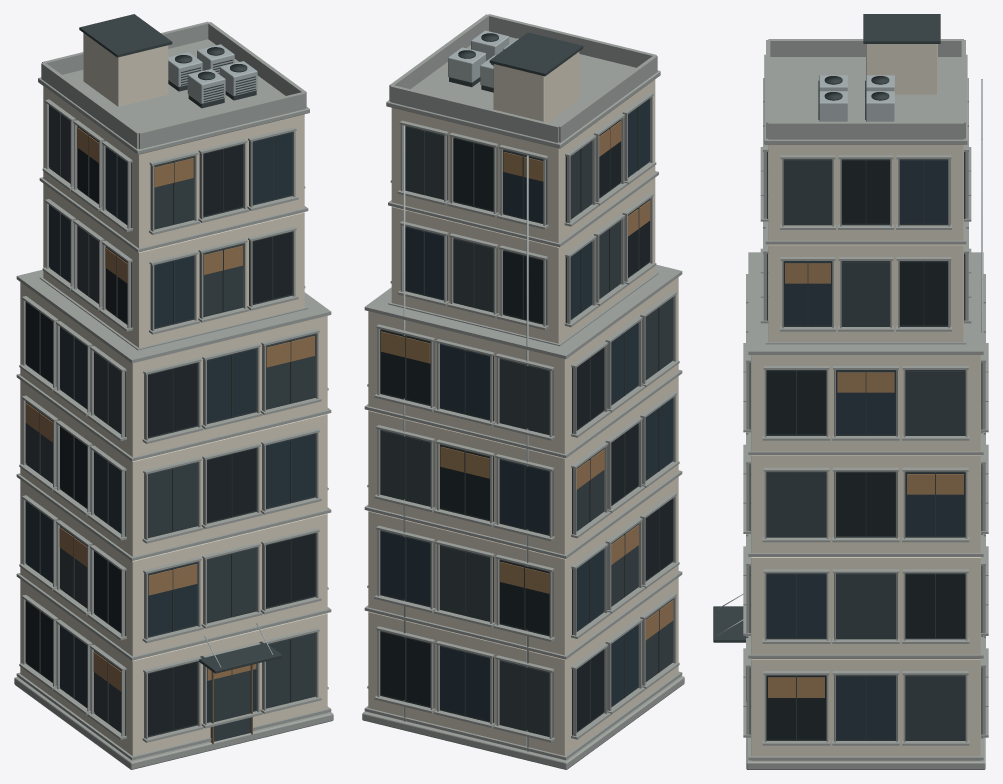
The model's file is site-distant-block.glb.
The picture shows the model from 3 angles, left to right: view 1: azimuth 30°, elevation 25°; view 2: azimuth 150°, elevation 25°; view 3: azimuth 270°, elevation 25°; orthographic projection. The views are drawn at different scales.
Visible parts, largest first — view 1: site-distant-block_Honed_grey_sandstone, site-distant-block_Limestone_render, site-distant-block_Interior_shadow_glazing, site-distant-block_Smoked_architectural_glass, site-distant-block_Blue_reflective_glazing, site-distant-block_Anthracite_anodized_metal, site-distant-block_Weathered_warm_teak, site-distant-block_Galvanized_brushed_steel; view 2: site-distant-block_Honed_grey_sandstone, site-distant-block_Limestone_render, site-distant-block_Blue_reflective_glazing, site-distant-block_Smoked_architectural_glass, site-distant-block_Interior_shadow_glazing, site-distant-block_Anthracite_anodized_metal, site-distant-block_Weathered_warm_teak, site-distant-block_Galvanized_brushed_steel; view 3: site-distant-block_Honed_grey_sandstone, site-distant-block_Limestone_render, site-distant-block_Smoked_architectural_glass, site-distant-block_Interior_shadow_glazing, site-distant-block_Blue_reflective_glazing, site-distant-block_Anthracite_anodized_metal, site-distant-block_Weathered_warm_teak, site-distant-block_Galvanized_brushed_steel.
Boxes of the visible parts, x1,y1,x2,y2 form: site-distant-block_Honed_grey_sandstone: (14,21,333,769); site-distant-block_Limestone_render: (20,33,327,757); site-distant-block_Interior_shadow_glazing: (25,126,315,735); site-distant-block_Smoked_architectural_glass: (25,105,315,741); site-distant-block_Blue_reflective_glazing: (25,132,315,721); site-distant-block_Anthracite_anodized_metal: (26,14,315,737); site-distant-block_Weathered_warm_teak: (25,127,314,691); site-distant-block_Galvanized_brushed_steel: (168,44,273,667); site-distant-block_Honed_grey_sandstone: (362,14,684,769); site-distant-block_Limestone_render: (368,52,678,757); site-distant-block_Blue_reflective_glazing: (380,98,673,720); site-distant-block_Smoked_architectural_glass: (380,126,673,735); site-distant-block_Interior_shadow_glazing: (380,120,673,731); site-distant-block_Anthracite_anodized_metal: (380,32,672,737); site-distant-block_Weathered_warm_teak: (381,121,673,640); site-distant-block_Galvanized_brushed_steel: (403,30,528,751); site-distant-block_Honed_grey_sandstone: (743,39,988,769); site-distant-block_Limestone_render: (751,44,980,760); site-distant-block_Smoked_architectural_glass: (766,160,965,739); site-distant-block_Interior_shadow_glazing: (766,160,965,739); site-distant-block_Blue_reflective_glazing: (766,160,965,739); site-distant-block_Anthracite_anodized_metal: (713,14,982,740); site-distant-block_Weathered_warm_teak: (768,263,963,697); site-distant-block_Galvanized_brushed_steel: (716,75,982,738).
Size of the model in its own units: 6.82 by 20.77 by 7.65.
